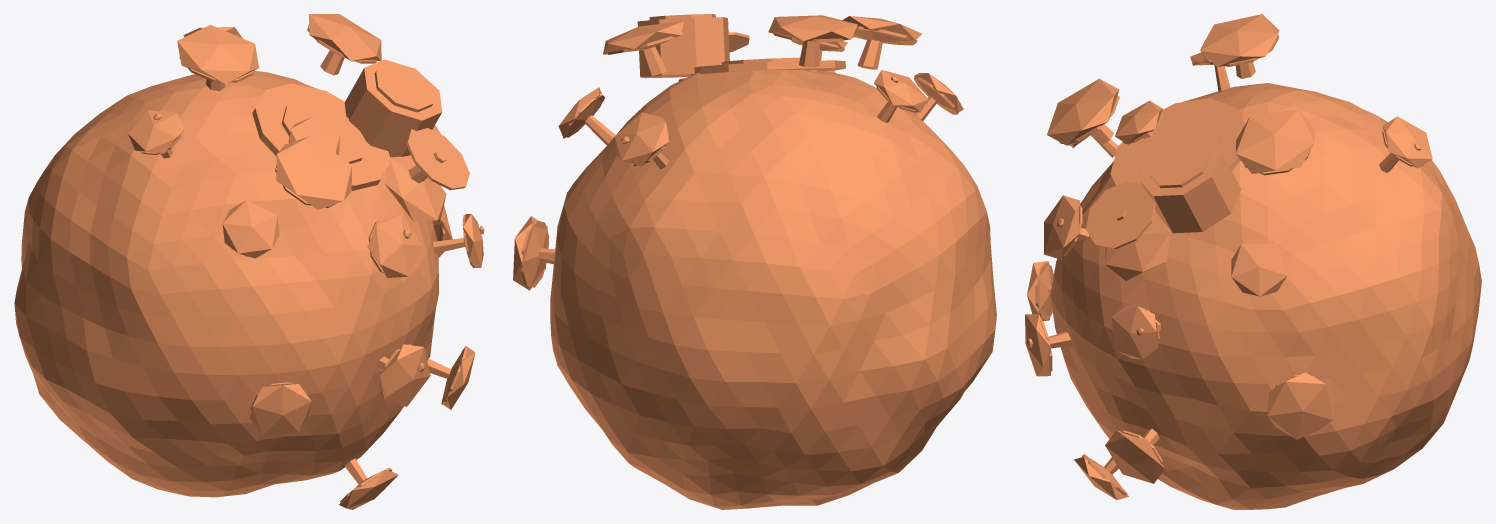
Rendered from Mushroom_09.fbx.
3 views of the same model, side by side, from view 1: azimuth 30°, elevation 25°; view 2: azimuth 150°, elevation 25°; view 3: azimuth 270°, elevation 25° (orthographic). The views are drawn at different scales.
Visible parts, largest first — view 1: Mushroom_09; view 2: Mushroom_09; view 3: Mushroom_09.
Boxes of the visible parts, x1=… form: Mushroom_09: x1=14, y1=14, x2=484, y2=509; Mushroom_09: x1=513, y1=14, x2=996, y2=509; Mushroom_09: x1=1025, y1=14, x2=1481, y2=509.
Size of the model in its own units: 6.67 by 6.98 by 6.49.
